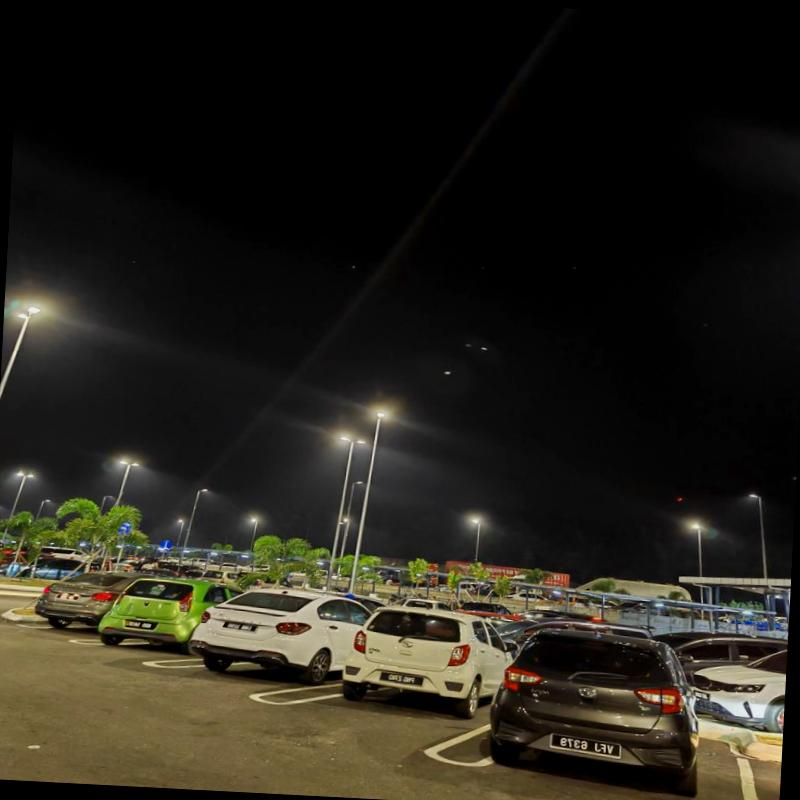license plate on a car: (549, 733, 620, 758), (379, 671, 422, 686), (222, 622, 255, 632), (124, 620, 155, 629), (55, 593, 78, 601), (694, 692, 709, 700)
